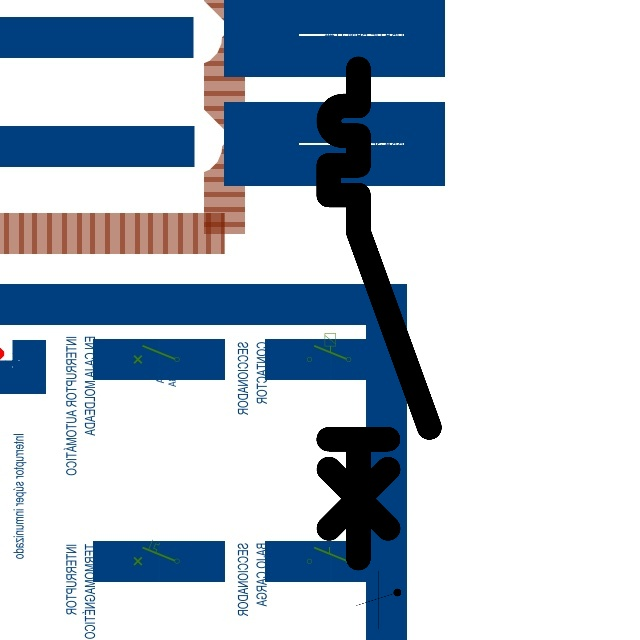interruptor_termomagnetico: (316, 56, 442, 571)
